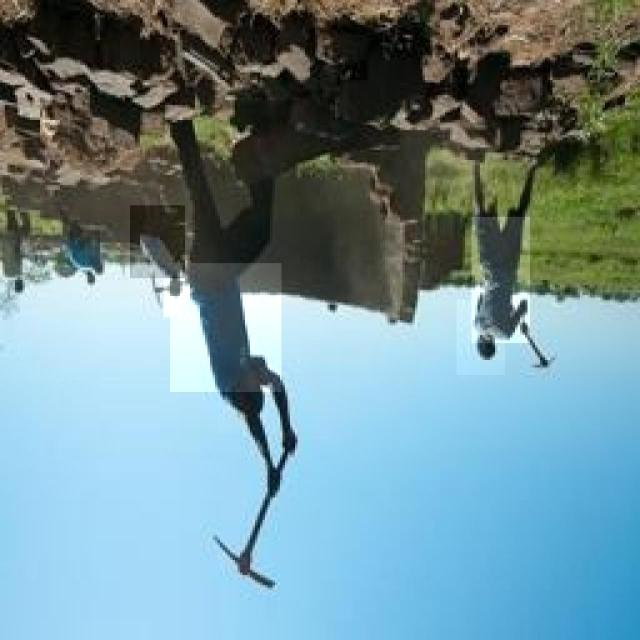Helmet: (170, 263, 282, 392), (472, 217, 530, 343), (219, 352, 275, 434), (130, 206, 185, 278), (457, 300, 505, 375), (164, 260, 192, 318)
